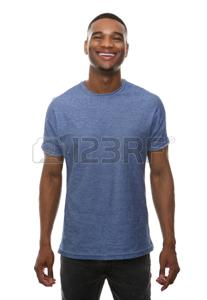arm: (151, 97, 177, 249), (41, 96, 63, 248)
chest: (67, 96, 149, 256)
face: (85, 13, 133, 71)
hand: (157, 249, 181, 290), (34, 248, 56, 286)
leg: (104, 259, 154, 299), (61, 259, 101, 300)
neck: (86, 66, 124, 94)
